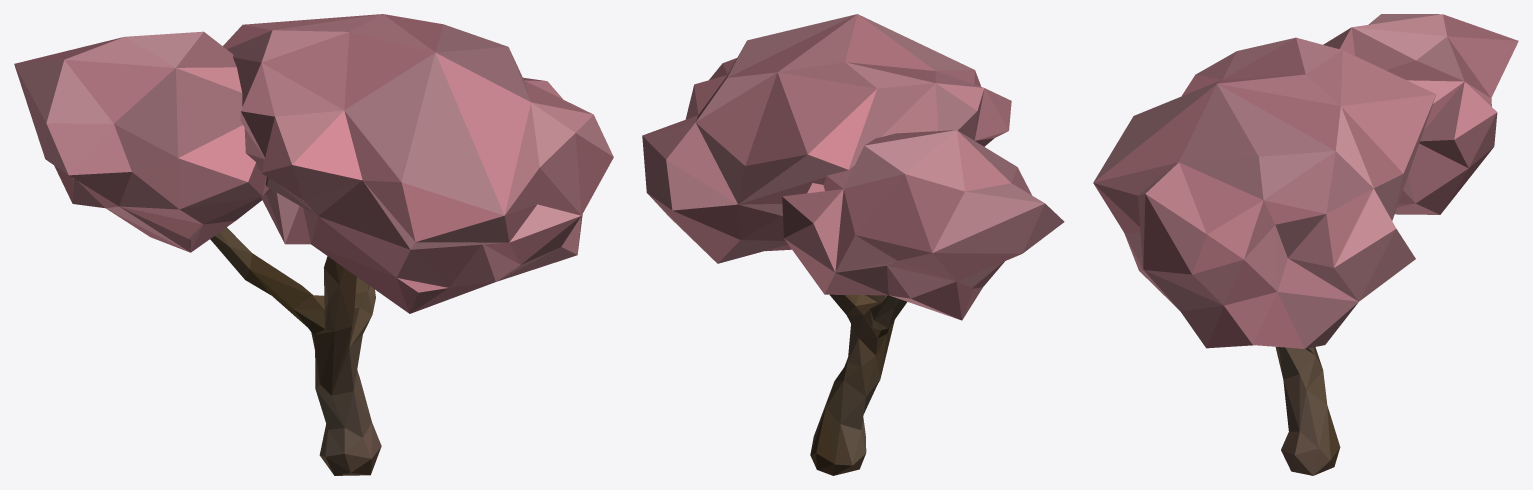
File: Tree_BlossomC.fbx
3 views of the same model, side by side, from view 1: azimuth 30°, elevation 25°; view 2: azimuth 150°, elevation 25°; view 3: azimuth 270°, elevation 25° (orthographic). The views are drawn at different scales.
Visible parts, largest first — view 1: Tree_BlossomC; view 2: Tree_BlossomC; view 3: Tree_BlossomC.
Boxes of the visible parts, left/top/right/bottom form: Tree_BlossomC: left=14, top=14, right=613, bottom=475; Tree_BlossomC: left=642, top=14, right=1064, bottom=475; Tree_BlossomC: left=1093, top=14, right=1518, bottom=475.
Bounding box in the file's own units: 1016 × 936 × 908.
